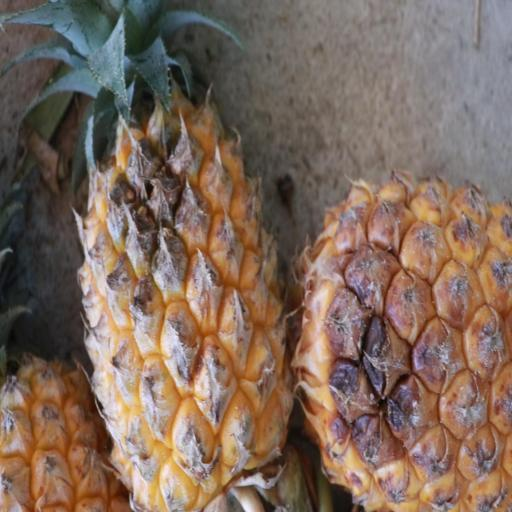Pineapple - v8 v1: (74, 2, 294, 510), (290, 162, 511, 512)
